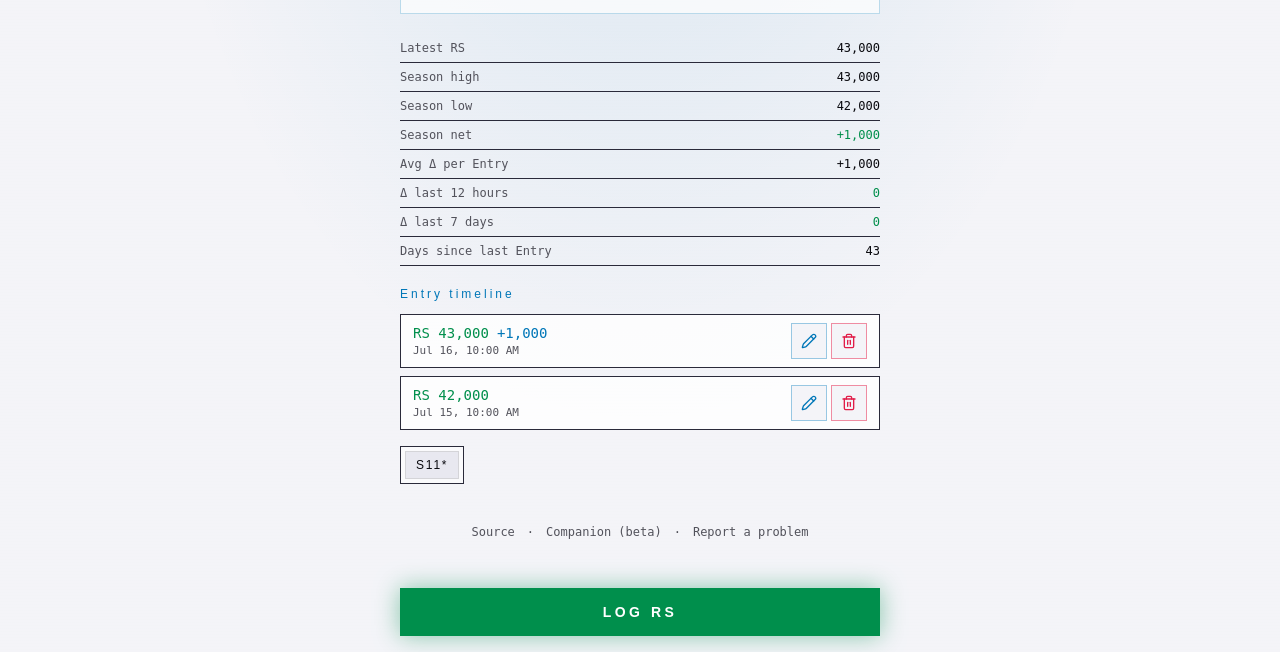
Test: Delete confirm from Entry row hard-deletes and refreshes Season view
(page scrolled)
Click the button named "Delete entry-a": [849, 403] box [831,385,867,421]
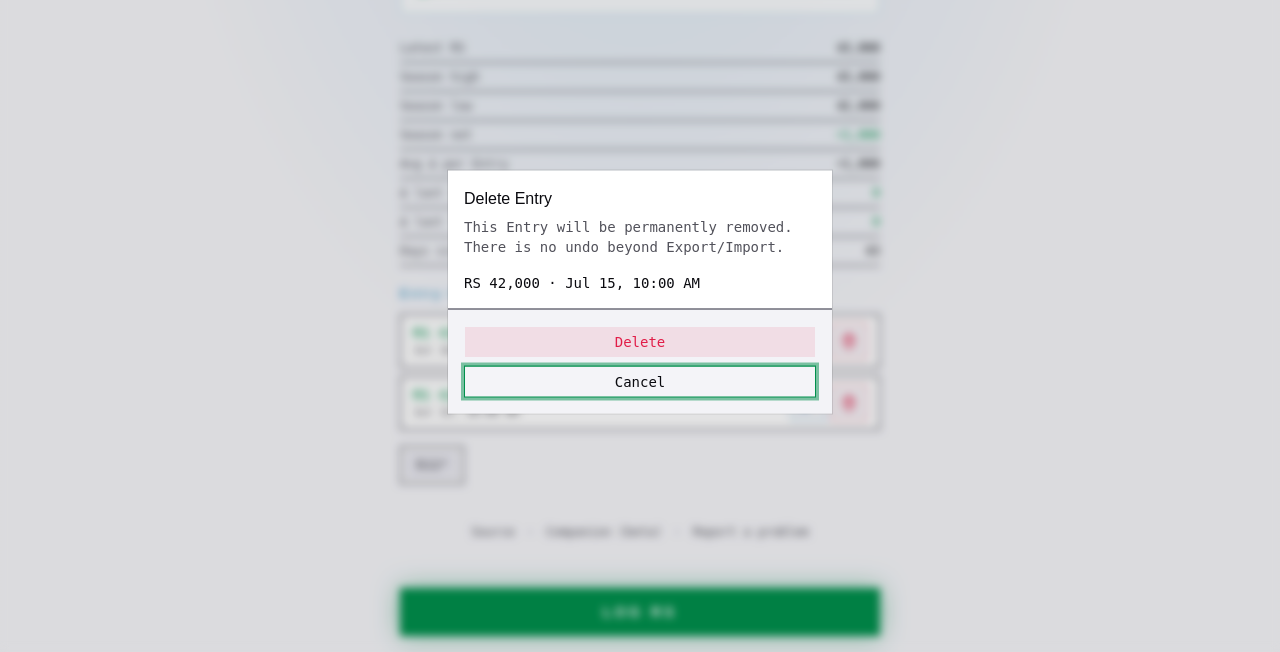
Expected: the text "RS 42,000 · Jul 15, 10:00 AM" is shown, [464,274,700,290]
Expected: the button "Delete" is shown
Click the button "Delete": [640, 342] box [464,326,816,358]
(page scrolled)
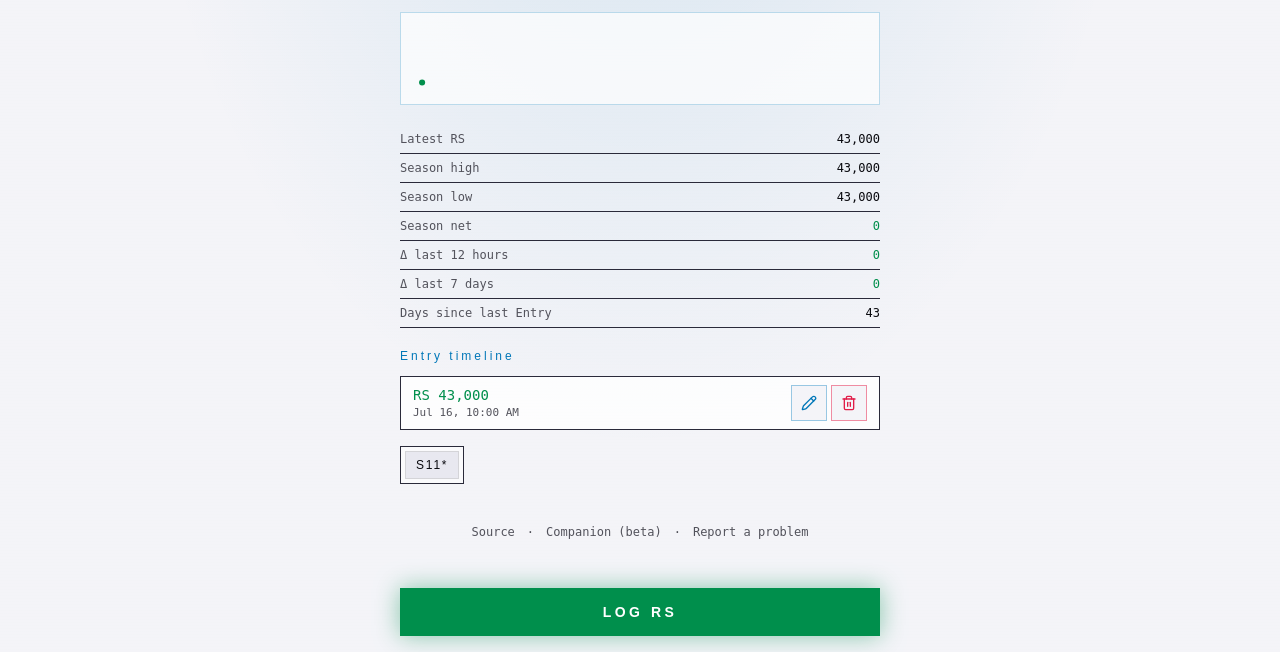
Expected: the text "RS 43,000" is shown, [413,387,489,403]
Expected: the heading "Delete Entry" is gone
Expected: the text "RS 42,000" is gone
